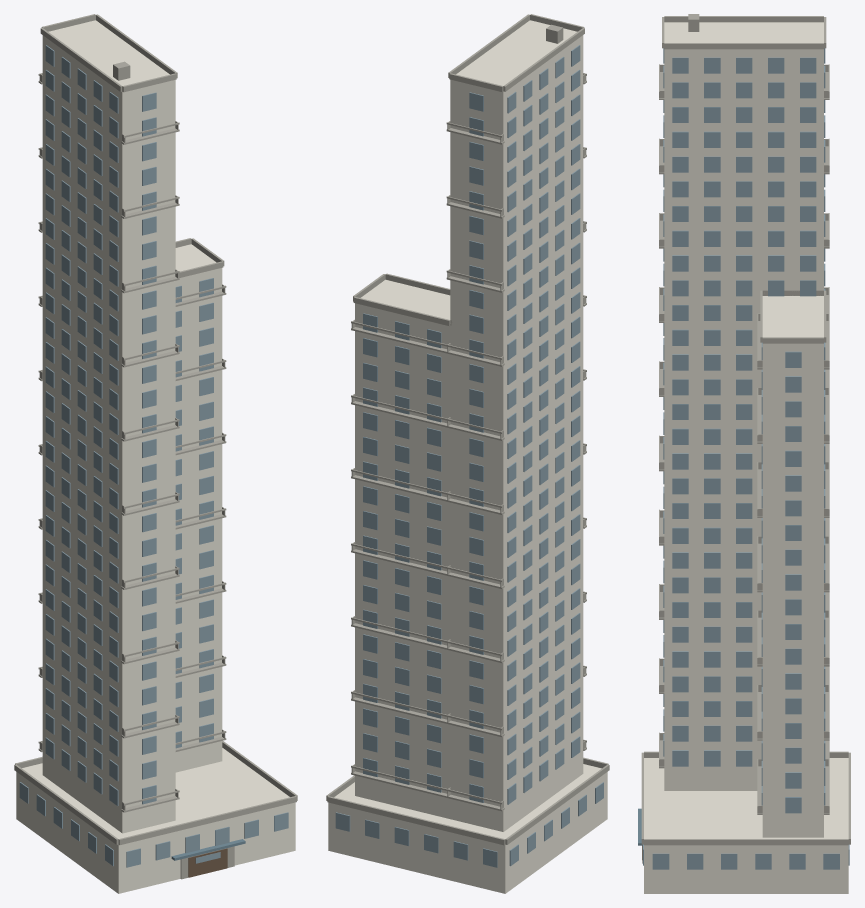
File: residential_3x3_tower_offset.glb
3 views of the same model, side by side, from view 1: azimuth 30°, elevation 25°; view 2: azimuth 150°, elevation 25°; view 3: azimuth 270°, elevation 25° (orthographic).
Parts seen in each view (by area): view 1: residential_3x3_tower_offset_0; view 2: residential_3x3_tower_offset_0; view 3: residential_3x3_tower_offset_0.
Part boxes in pixels (x1,y1,x2,y2): residential_3x3_tower_offset_0: [14, 14, 297, 893]; residential_3x3_tower_offset_0: [326, 14, 609, 893]; residential_3x3_tower_offset_0: [638, 14, 850, 893].
Bounding box in the file's own units: 23 × 97.5 × 23.4.
